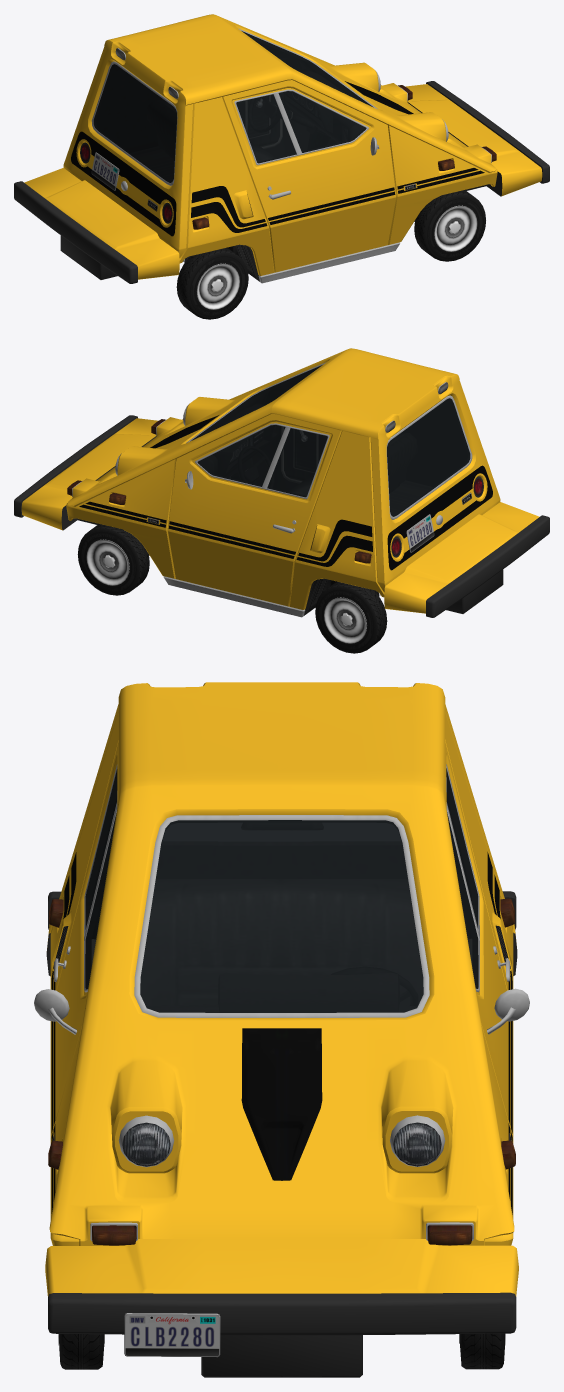
The picture shows the model from 3 angles, top to bottom: view 1: azimuth 30°, elevation 25°; view 2: azimuth 150°, elevation 25°; view 3: azimuth 270°, elevation 25°; orthographic projection. The views are drawn at different scales.
Visible parts, largest first — view 1: Colby80_body_SHTYCAR80_bodymat_0, Colby80_Interior_UCB_Interiors_2_0, Colby80_Bumper_Rear_SHTYCAR80_bodymat_0, Colby80_Rear_window_UCB_Lights_and_Glass_Transperent_0, Colby80_Glass_Passenger_UCB_Lights_and_Glass_Transperent_0, Colby80_Bottom_UCB_BOTTOM_0, Colby80_Vynil_Trim_UCB_BOTTOM_0, Colby80_Bumper_Front_SHTYCAR80_bodymat_0, Colby80_WheelStock_RR_RB1c_Tire_1k_0, Colby80_WheelStock_FR_RB1c_Tire_1k_0, Colby80_Bumper_rear_Inner_UCB_BOTTOM_0, Colby80_Bumper_Front_Inner_UCB_BOTTOM_0 (+3 smaller); view 2: Colby80_body_SHTYCAR80_bodymat_0, Colby80_Interior_UCB_Interiors_2_0, Colby80_Bumper_Rear_SHTYCAR80_bodymat_0, Colby80_Rear_window_UCB_Lights_and_Glass_Transperent_0, Colby80_Glass_Driver_UCB_Lights_and_Glass_Transperent_0, Colby80_Bottom_UCB_BOTTOM_0, Colby80_Vynil_Trim_UCB_BOTTOM_0, Colby80_Bumper_Front_SHTYCAR80_bodymat_0, Colby80_WheelStock_RL_RB1c_Tire_1k_0, Colby80_WheelStock_FL_RB1c_Tire_1k_0, Colby80_Bumper_rear_Inner_UCB_BOTTOM_0, Colby80_Bumper_Front_Inner_UCB_BOTTOM_0 (+3 smaller); view 3: Colby80_body_SHTYCAR80_bodymat_0, Colby80_Windshield_UCB_Lights_and_Glass_Transperent_0, Colby80_Interior_UCB_Interiors_2_0, Colby80_Bumper_Front_SHTYCAR80_bodymat_0, Colby80_Bottom_UCB_BOTTOM_0, Colby80_Bumper_Front_Inner_UCB_BOTTOM_0, Colby80_Numberplate_front_Numberplates_Misk_U_0, Colby80_Rear_window_UCB_Lights_and_Glass_Transperent_0, Colby80_Headlights_UCB_Lights_and_Glass_0, Colby80_Vynil_Trim_UCB_BOTTOM_0, Colby80_Glass_Driver_UCB_Lights_and_Glass_Transperent_0, Colby80_Glass_Passenger_UCB_Lights_and_Glass_Transperent_0 (+2 smaller).
Boxes of the visible parts, x1,y1,x2,y2 form: Colby80_body_SHTYCAR80_bodymat_0: (63,14,497,275); Colby80_Interior_UCB_Interiors_2_0: (94,32,370,182); Colby80_Bumper_Rear_SHTYCAR80_bodymat_0: (24,168,179,279); Colby80_Rear_window_UCB_Lights_and_Glass_Transperent_0: (93,64,176,182); Colby80_Glass_Passenger_UCB_Lights_and_Glass_Transperent_0: (236,91,366,163); Colby80_Bottom_UCB_BOTTOM_0: (80,28,496,283); Colby80_Vynil_Trim_UCB_BOTTOM_0: (71,131,484,236); Colby80_Bumper_Front_SHTYCAR80_bodymat_0: (406,84,542,195); Colby80_WheelStock_RR_RB1c_Tire_1k_0: (176,247,248,319); Colby80_WheelStock_FR_RB1c_Tire_1k_0: (414,190,485,261); Colby80_Bumper_rear_Inner_UCB_BOTTOM_0: (14,181,137,283); Colby80_Bumper_Front_Inner_UCB_BOTTOM_0: (407,81,549,196); Colby80_body_SHTYCAR80_bodymat_0: (66,348,500,609); Colby80_Interior_UCB_Interiors_2_0: (193,366,469,516); Colby80_Bumper_Rear_SHTYCAR80_bodymat_0: (384,502,539,613); Colby80_Rear_window_UCB_Lights_and_Glass_Transperent_0: (387,398,470,516); Colby80_Glass_Driver_UCB_Lights_and_Glass_Transperent_0: (197,425,327,497); Colby80_Bottom_UCB_BOTTOM_0: (67,362,483,617); Colby80_Vynil_Trim_UCB_BOTTOM_0: (79,465,492,570); Colby80_Bumper_Front_SHTYCAR80_bodymat_0: (21,418,158,530); Colby80_WheelStock_RL_RB1c_Tire_1k_0: (315,581,387,653); Colby80_WheelStock_FL_RB1c_Tire_1k_0: (77,524,149,595); Colby80_Bumper_rear_Inner_UCB_BOTTOM_0: (426,515,549,617); Colby80_Bumper_Front_Inner_UCB_BOTTOM_0: (14,415,156,530); Colby80_body_SHTYCAR80_bodymat_0: (49,682,514,1245); Colby80_Windshield_UCB_Lights_and_Glass_Transperent_0: (140,820,423,1012); Colby80_Interior_UCB_Interiors_2_0: (86,773,477,1012); Colby80_Bumper_Front_SHTYCAR80_bodymat_0: (45,1239,518,1296); Colby80_Bottom_UCB_BOTTOM_0: (34,764,529,1245); Colby80_Bumper_Front_Inner_UCB_BOTTOM_0: (48,1292,516,1377); Colby80_Numberplate_front_Numberplates_Misk_U_0: (124,1313,220,1357); Colby80_Rear_window_UCB_Lights_and_Glass_Transperent_0: (163,823,400,840); Colby80_Headlights_UCB_Lights_and_Glass_0: (122,1122,441,1166); Colby80_Vynil_Trim_UCB_BOTTOM_0: (51,852,512,1214); Colby80_Glass_Driver_UCB_Lights_and_Glass_Transperent_0: (446,768,478,988); Colby80_Glass_Passenger_UCB_Lights_and_Glass_Transperent_0: (85,769,117,989).
Bounding box in the file's own units: 3.07 × 1.5 × 1.55.
8 materials, 7 textured.
